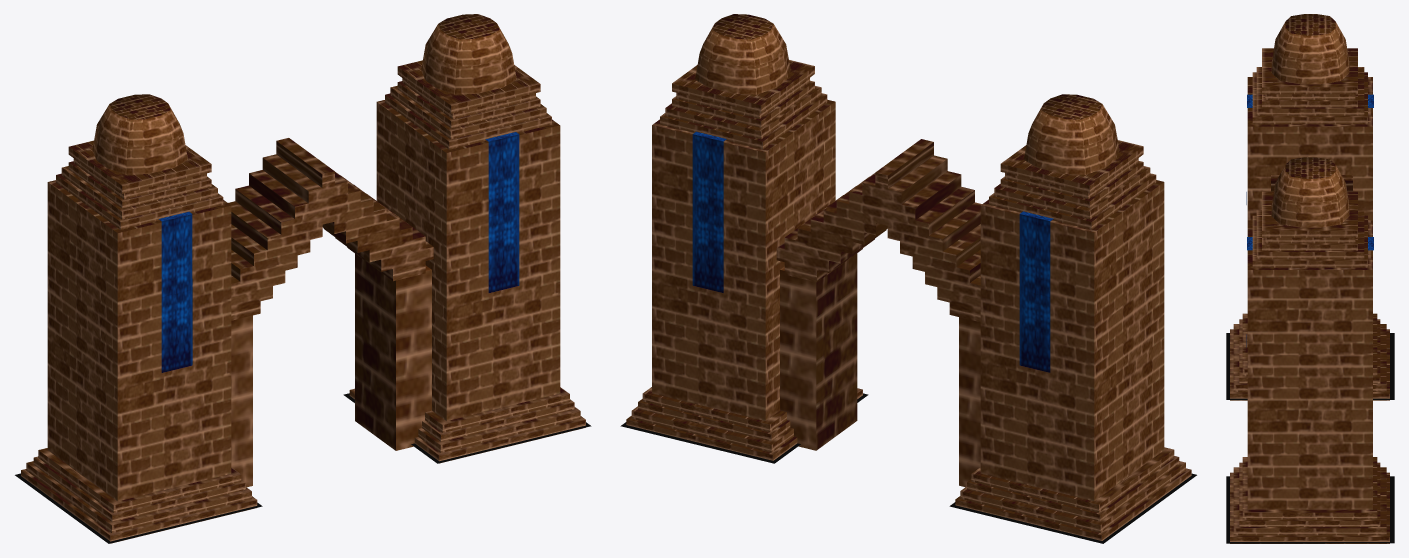
The model's file is wall_gate.dae.
3 views of the same model, side by side, from view 1: azimuth 30°, elevation 25°; view 2: azimuth 150°, elevation 25°; view 3: azimuth 270°, elevation 25° (orthographic). The views are drawn at different scales.
Visible parts, largest first — view 1: wall_gate; view 2: wall_gate; view 3: wall_gate.
Boxes of the visible parts, x1,y1,x2,y2 form: wall_gate: (15,14,591,543); wall_gate: (620,14,1196,543); wall_gate: (1226,14,1394,543).
Bounding box in the file's own units: 26.17 × 8.85 × 20.
